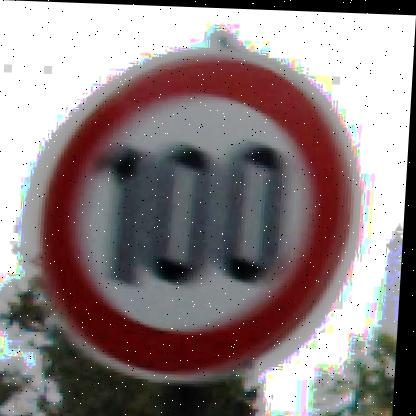Speed Limit -100-: (29, 39, 368, 385)
